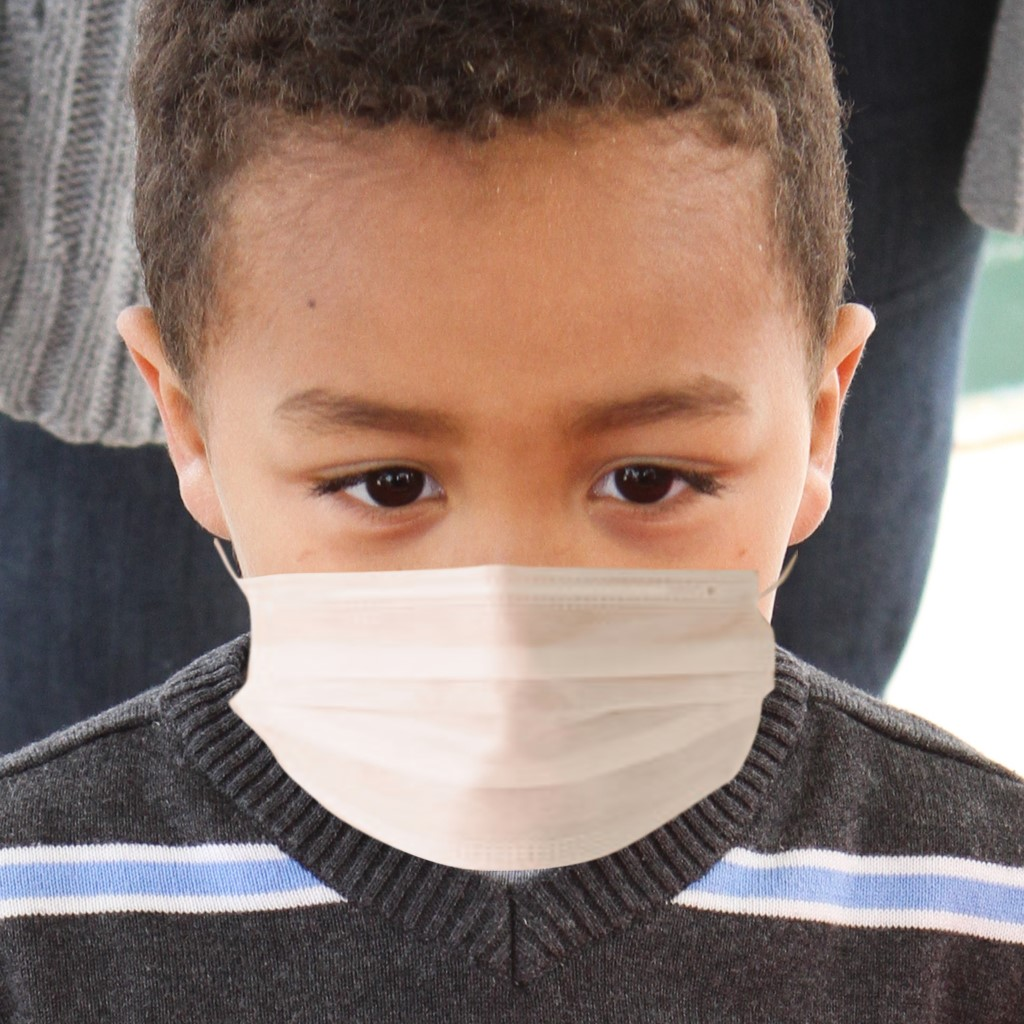con_mascara: (151, 65, 820, 857)
